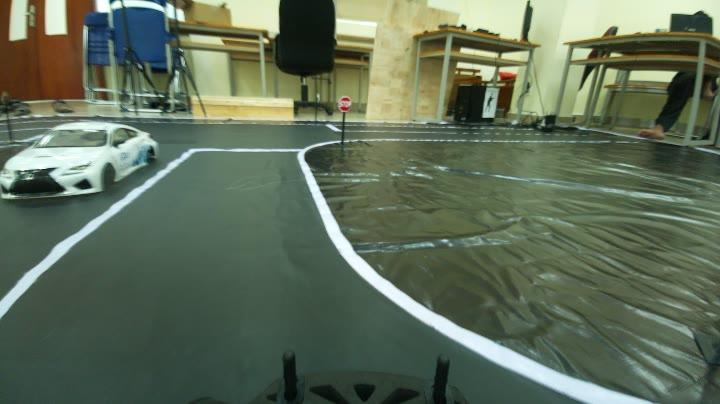car: (5, 115, 158, 212)
stop: (326, 88, 356, 116)
